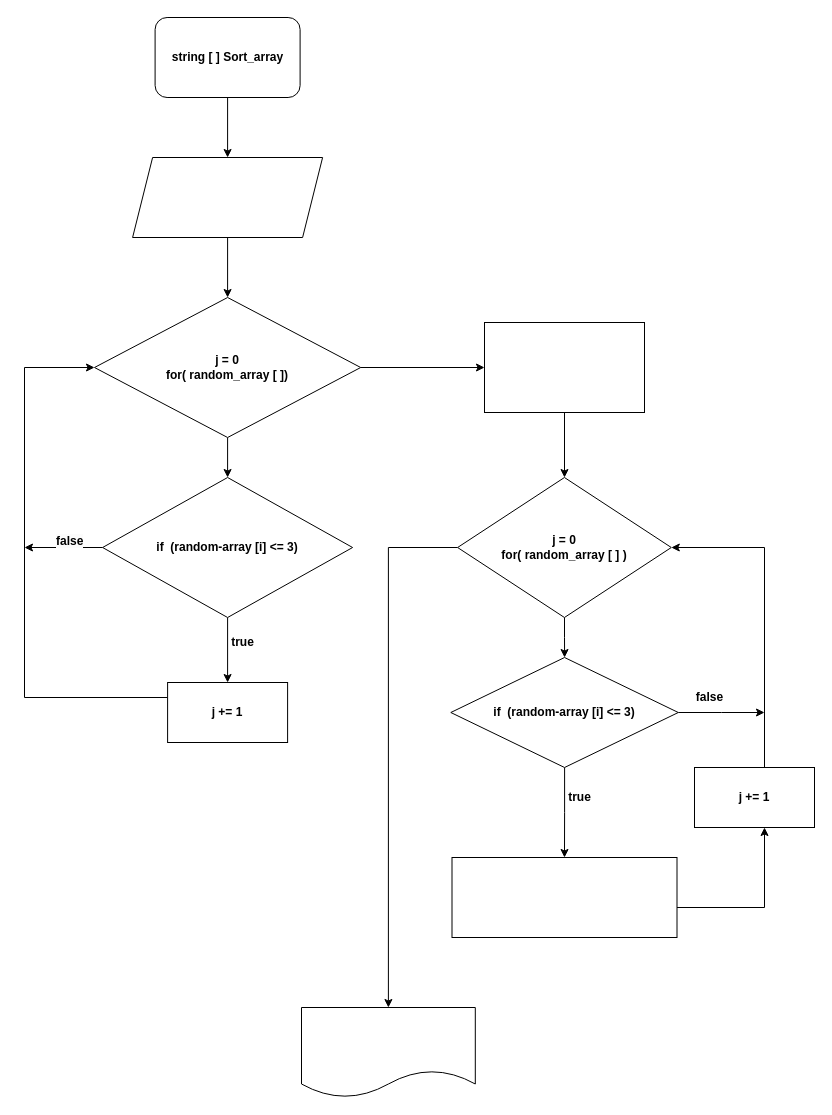
This 832x1115 diagram has some shape labels left out. Each missing label, with the centre of its shape:
new string array [j]: (x=564, y=367)
return sort_array [ ]: (x=387, y=1052)
sort_array [j] = random-array [i]: (x=564, y=897)
string [ ] random_array: (x=227, y=197)
